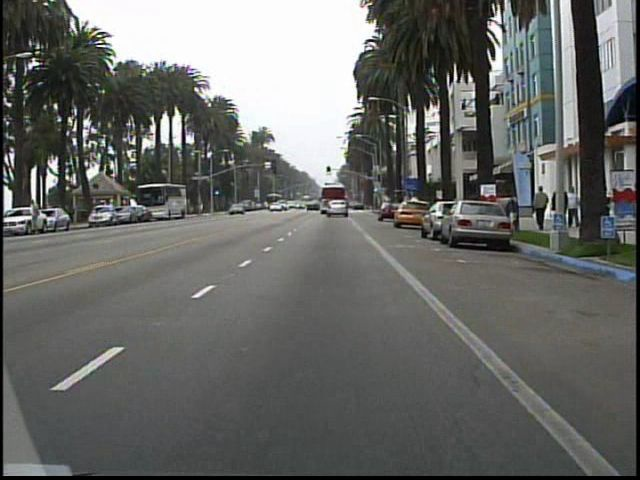person: (550, 179, 568, 230), (530, 182, 547, 233), (567, 184, 580, 229)
